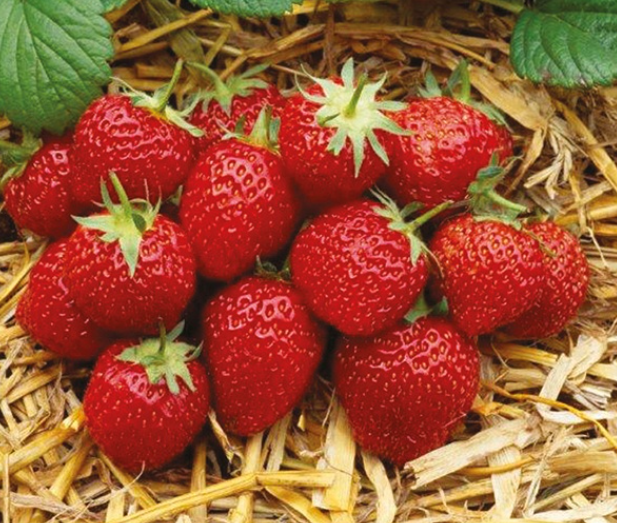ripe: (193, 270, 328, 439), (333, 311, 484, 462), (86, 336, 214, 479), (296, 191, 429, 326), (271, 78, 399, 201), (179, 137, 299, 268), (70, 85, 194, 206), (377, 95, 517, 199), (427, 204, 548, 319), (484, 219, 593, 344), (18, 239, 118, 363), (3, 135, 103, 235), (188, 77, 295, 155)
unripe: (69, 202, 198, 339)
